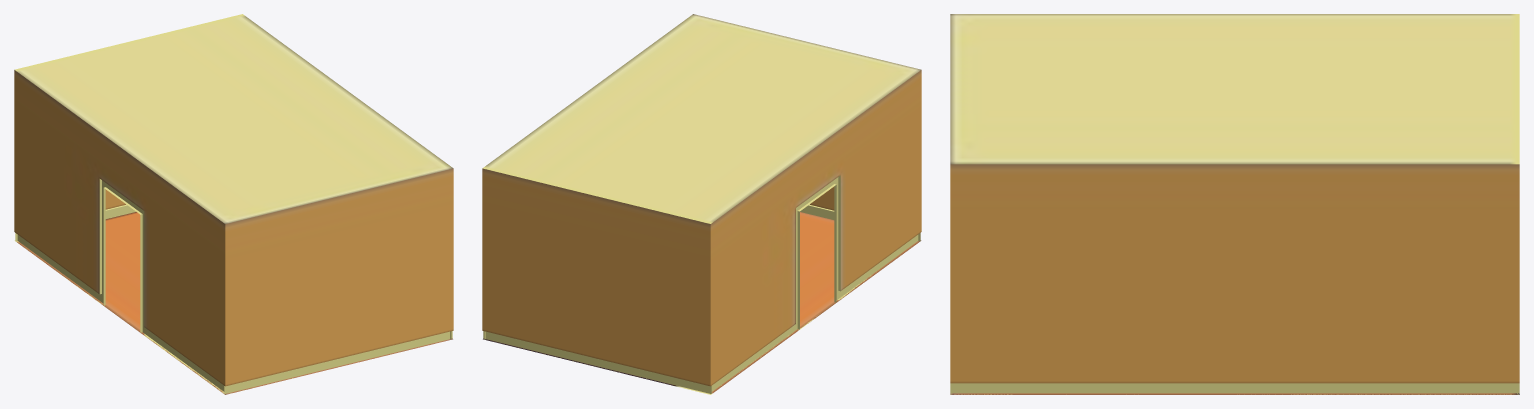
The model's file is room.obj.
The picture shows the model from 3 angles, left to right: view 1: azimuth 30°, elevation 25°; view 2: azimuth 150°, elevation 25°; view 3: azimuth 270°, elevation 25°; orthographic projection. The views are drawn at different scales.
Parts seen in each view (by area): view 1: room_Cube.002; view 2: room_Cube.002; view 3: room_Cube.002.
Part boxes in pixels (bbox=[...]): room_Cube.002: bbox=[14, 14, 453, 394]; room_Cube.002: bbox=[482, 14, 921, 394]; room_Cube.002: bbox=[950, 14, 1519, 394].
Bounding box in the file's own units: 12.92 × 9.24 × 20.67.
Materials: 1 (1 with a texture image).
